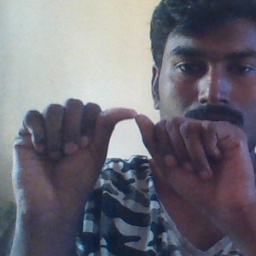A: (19, 101, 251, 213)
